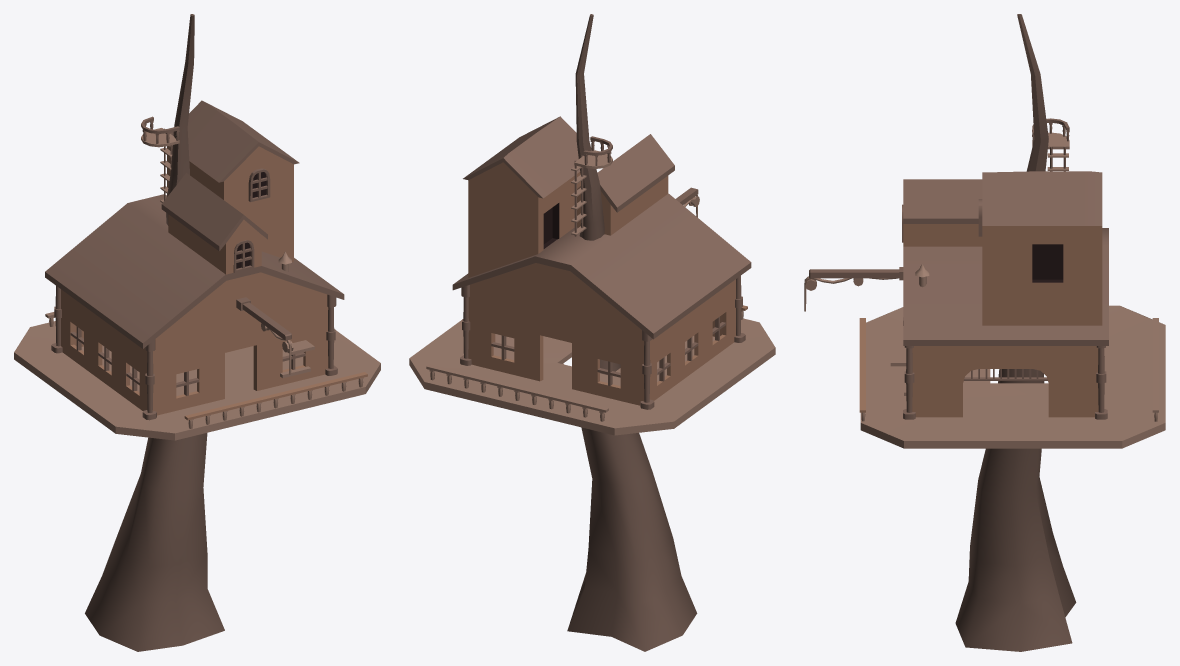
Rendered from 4ysmSywCpkZ.glb.
The picture shows the model from 3 angles, left to right: view 1: azimuth 30°, elevation 25°; view 2: azimuth 150°, elevation 25°; view 3: azimuth 270°, elevation 25°; orthographic projection. The views are drawn at different scales.
Parts seen in each view (by area): view 1: SM_Cabin:SM_Cabin; view 2: SM_Cabin:SM_Cabin; view 3: SM_Cabin:SM_Cabin.
Boxes of the visible parts, box(x1,y1,x2,y2) form: SM_Cabin:SM_Cabin: box(14, 14, 380, 651); SM_Cabin:SM_Cabin: box(409, 14, 775, 651); SM_Cabin:SM_Cabin: box(804, 14, 1165, 651).
Bounding box in the file's own units: 0.4615 × 1 × 0.5202.
